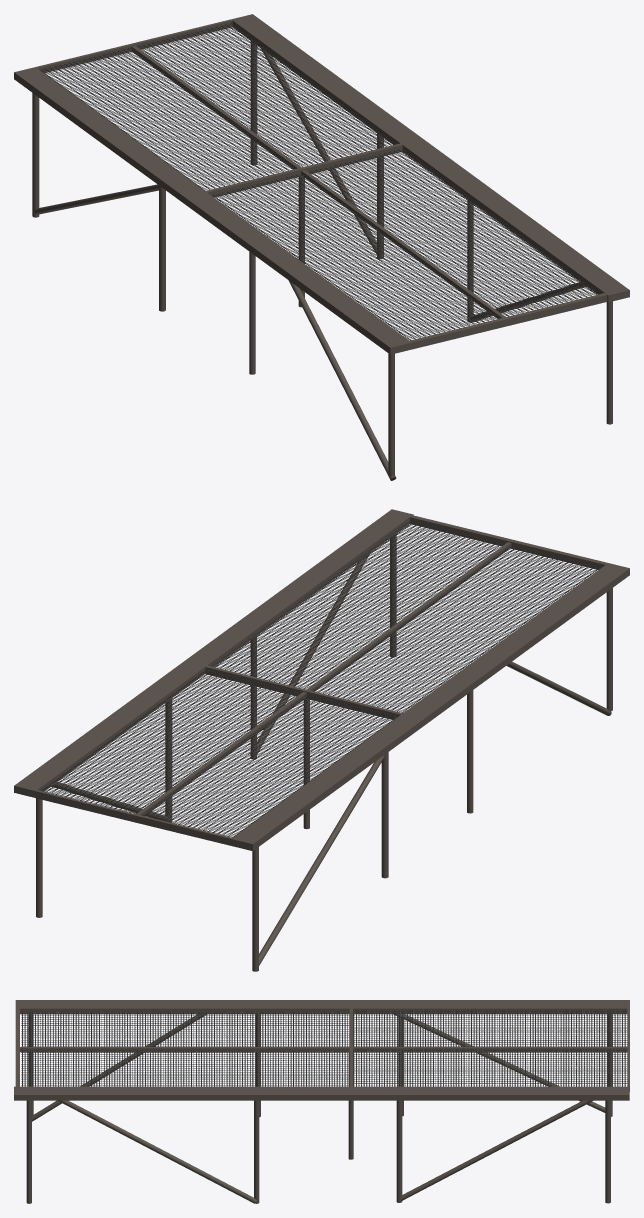
Rendered from small bridge.fbx.
3 views of the same model, one above another, from view 1: azimuth 30°, elevation 25°; view 2: azimuth 150°, elevation 25°; view 3: azimuth 270°, elevation 25° (orthographic). The views are drawn at different scales.
Visible parts, largest first — view 1: small_brdige; view 2: small_brdige; view 3: small_brdige.
Boxes of the visible parts, x1=… form: small_brdige: x1=14, y1=14, x2=629, y2=480; small_brdige: x1=14, y1=509, x2=629, y2=971; small_brdige: x1=14, y1=1000, x2=629, y2=1203.
Size of the model in its own units: 64.96 by 37.26 by 178.
